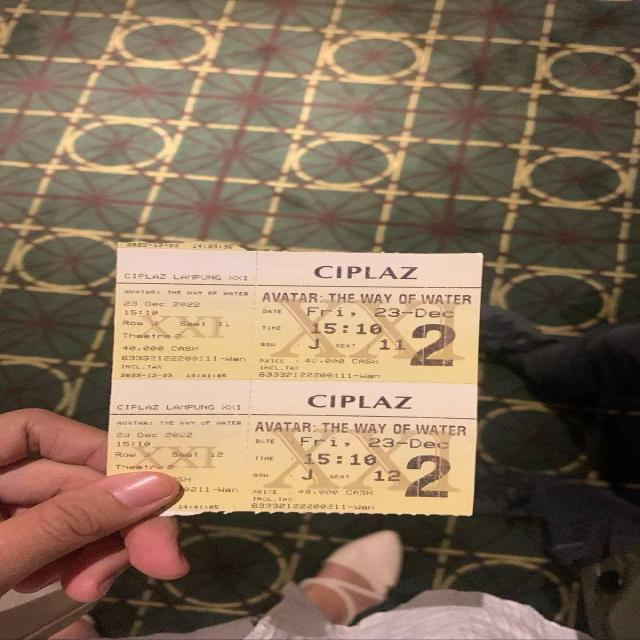date: (119, 298, 213, 318)
store: (304, 260, 430, 282), (122, 271, 259, 282)
total: (255, 358, 390, 364)
